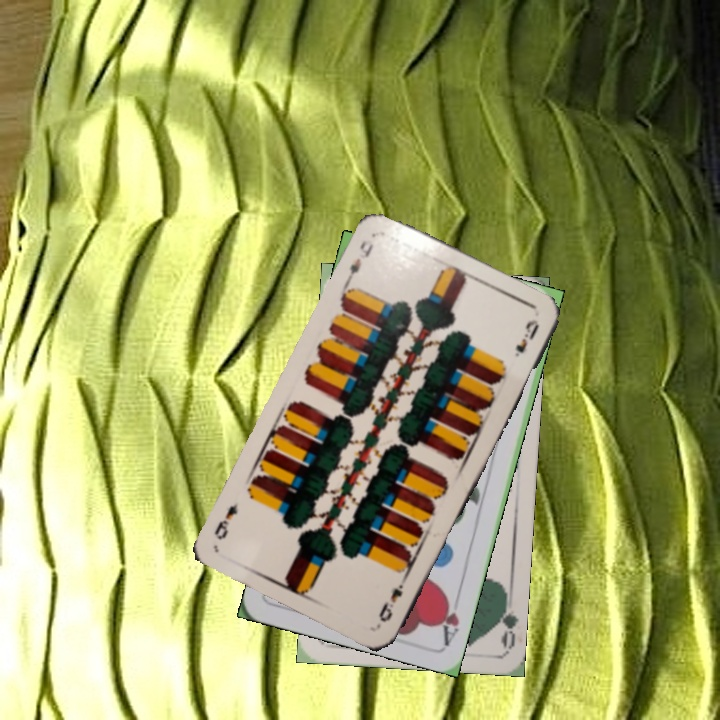E9: (374, 573, 409, 625), (342, 236, 376, 285)
GO: (491, 590, 519, 650)
HA: (435, 589, 463, 647)
